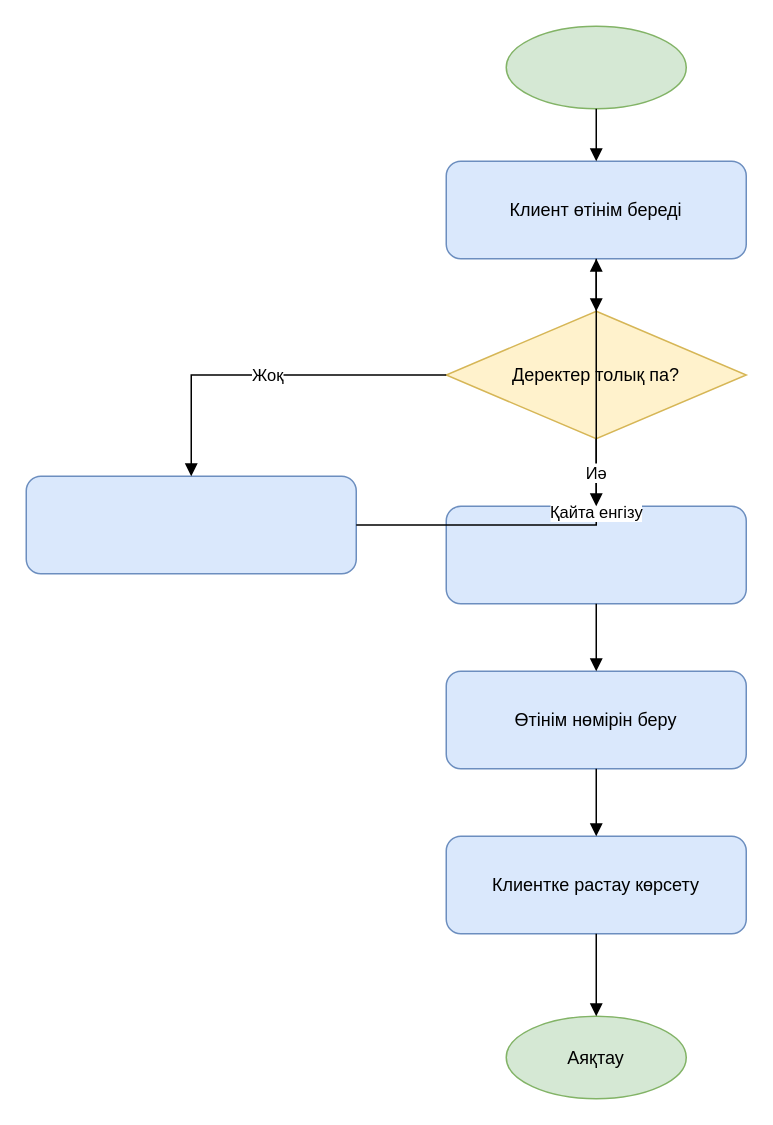
Some shapes in this 773 by 1125 pixel diagram are drawn without their labels. Here are the shapes that lost their labels. From the top down, the centre of each, then its label:
the point at 595,67: Бастау
the point at 190,524: Қате туралы хабарлама
the point at 595,554: Өтінімді базаға сақтау
